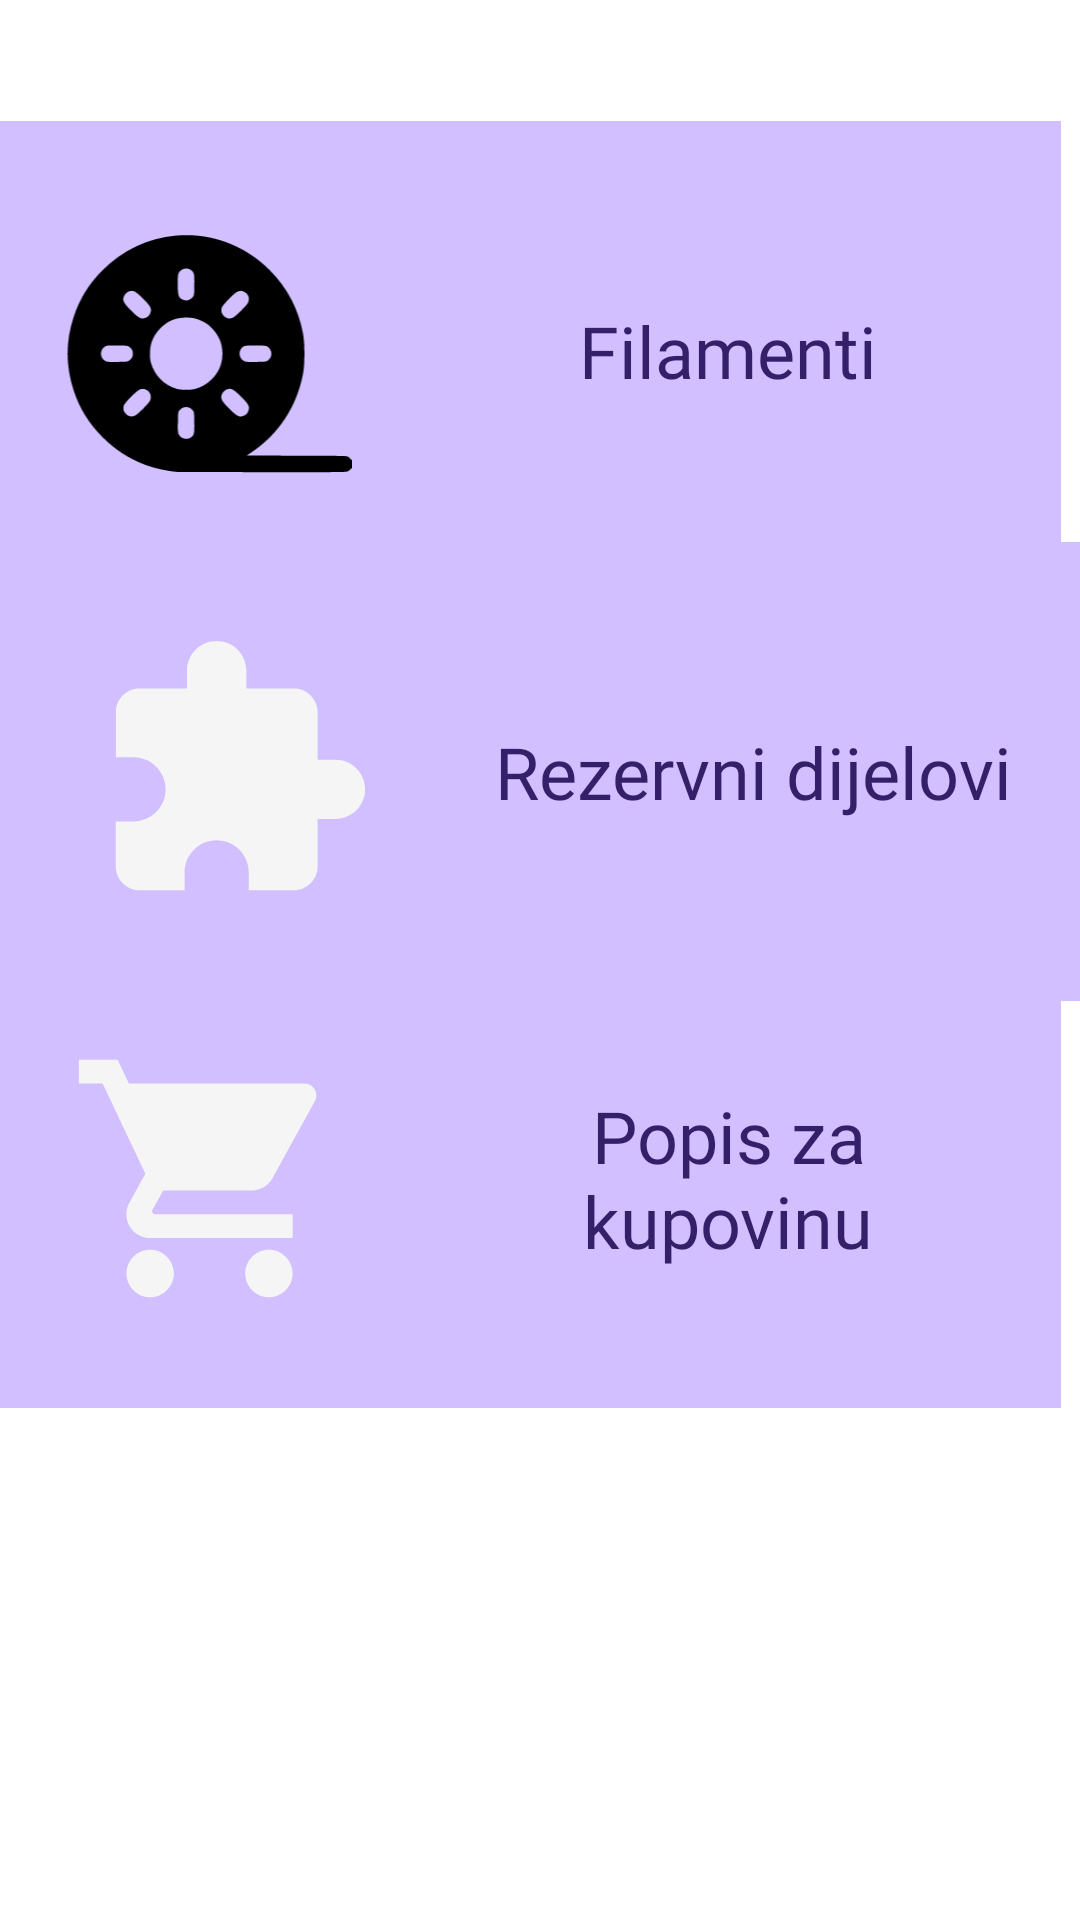

Screen size 1080*1920. Icon name, then its center in pixels as [x,y]:
extension: [240,765]
shopping cart: [197,1178]
